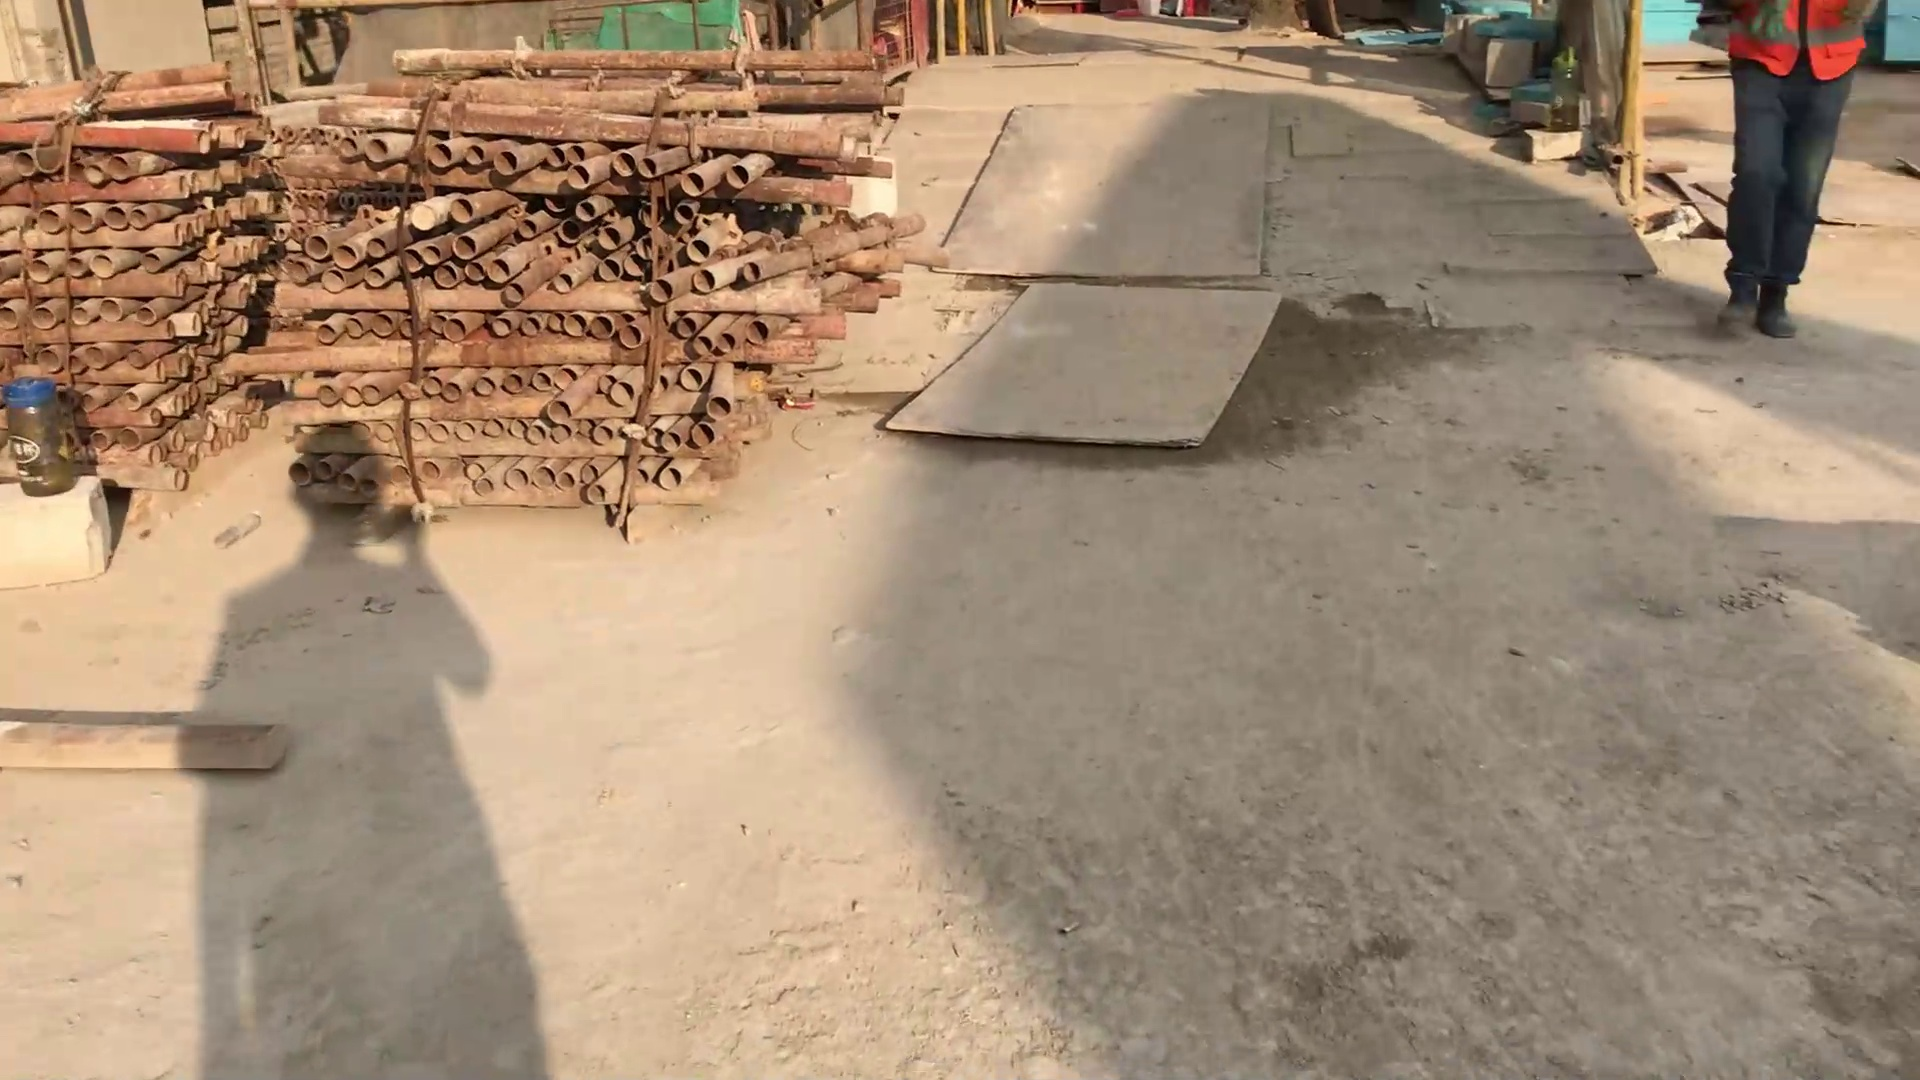person: (1714, 1, 1886, 342)
scaffold: (279, 44, 880, 504), (1, 123, 267, 480)
vest: (1725, 5, 1868, 84)
